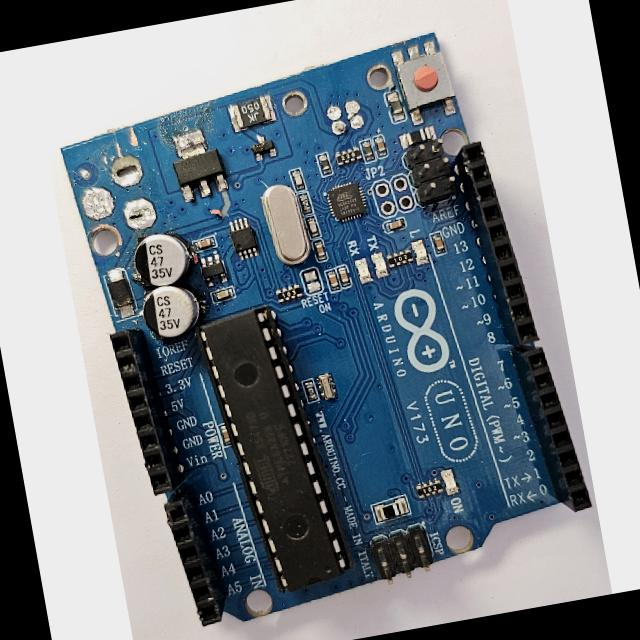missing_eps: (86, 135, 180, 249)
missing_usb: (273, 62, 386, 152)
